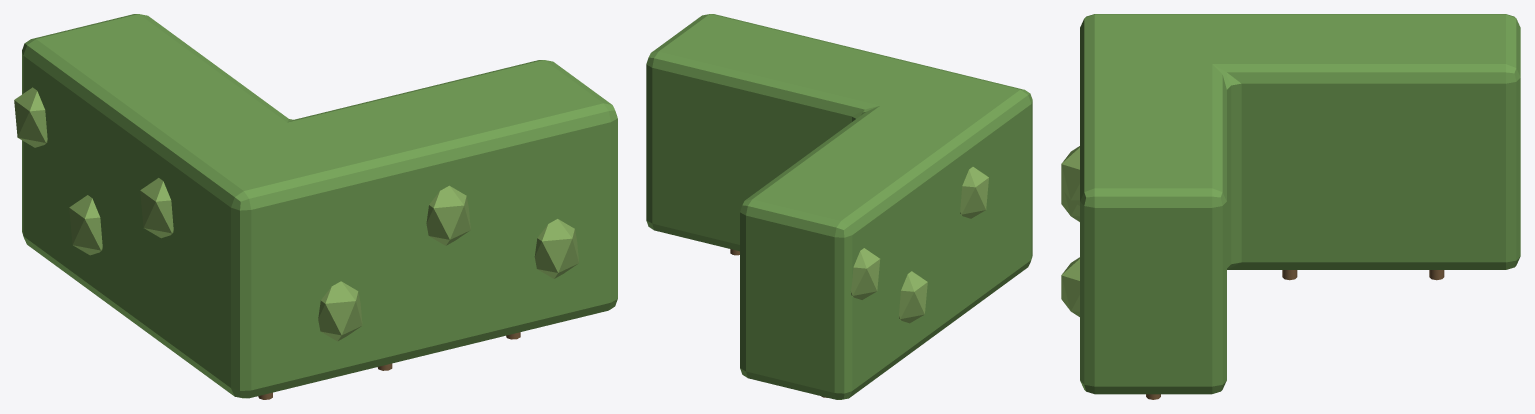
File: hedge_l_corner.glb
3 views of the same model, side by side, from view 1: azimuth 30°, elevation 25°; view 2: azimuth 150°, elevation 25°; view 3: azimuth 270°, elevation 25° (orthographic). The views are drawn at different scales.
Visible parts, largest first — view 1: Continuous L-shaped hedge, Corner hedge leaf cluster, Corner hedge leaf cluster.001, Corner hedge leaf cluster.002, Corner hedge leaf cluster.005, Corner hedge leaf cluster.003, Corner hedge leaf cluster.004; view 2: Continuous L-shaped hedge, Corner hedge leaf cluster.005, Corner hedge leaf cluster.003, Corner hedge leaf cluster.004; view 3: Continuous L-shaped hedge, Corner hedge leaf cluster.001, Corner hedge leaf cluster.002.
Part boxes in pixels (box(x1,y1,x2,y2)): Continuous L-shaped hedge: box(22, 14, 617, 398); Corner hedge leaf cluster: box(318, 281, 362, 341); Corner hedge leaf cluster.001: box(426, 185, 470, 245); Corner hedge leaf cluster.002: box(534, 219, 578, 278); Corner hedge leaf cluster.005: box(14, 87, 47, 147); Corner hedge leaf cluster.003: box(140, 178, 173, 238); Corner hedge leaf cluster.004: box(69, 195, 102, 255); Continuous L-shaped hedge: box(646, 14, 1032, 399); Corner hedge leaf cluster.005: box(850, 248, 880, 299); Corner hedge leaf cluster.003: box(960, 167, 988, 218); Corner hedge leaf cluster.004: box(899, 271, 927, 323); Continuous L-shaped hedge: box(1080, 14, 1520, 394); Corner hedge leaf cluster.001: box(1061, 146, 1079, 205); Corner hedge leaf cluster.002: box(1061, 257, 1079, 316).
Size of the model in its own units: 2.2 by 1.25 by 2.19.
